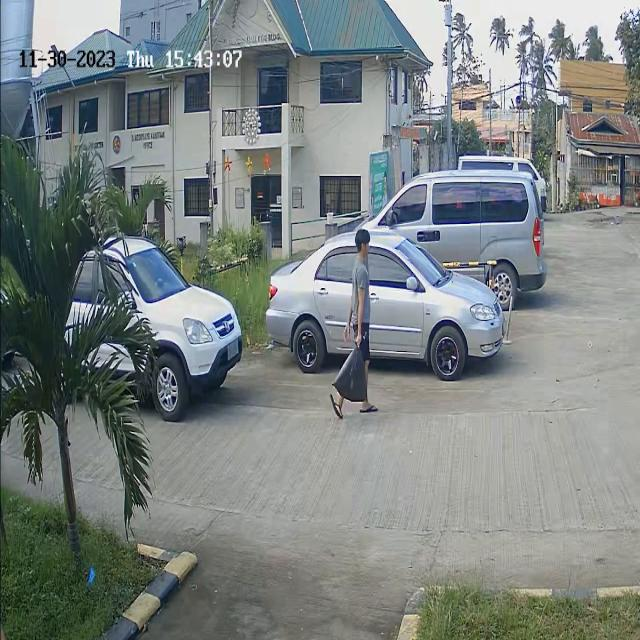human: (331, 222, 381, 424)
trash: (332, 342, 368, 404)
